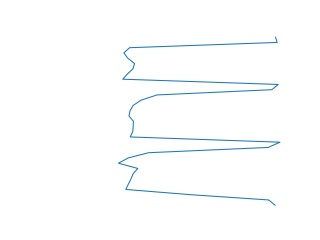majorRiverChannelBar: (116, 34, 283, 208)
